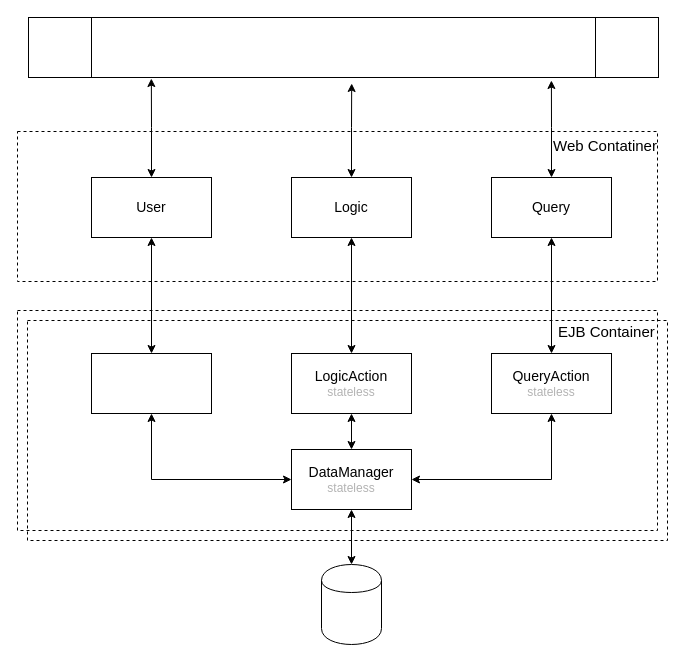
This 685x662 diagram has some shape labels left out. Each missing label, with the box of its shape:
Mysql: (320, 564, 382, 644)
UserAction stateless: (90, 352, 212, 414)
Web Front End: (28, 16, 658, 78)
